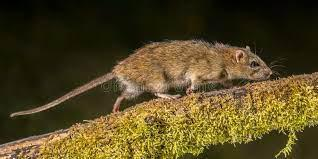rat: (10, 42, 274, 117)
